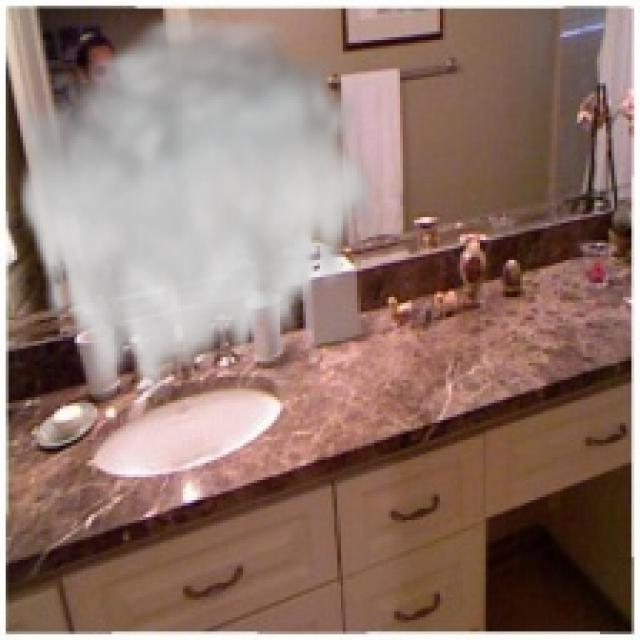smoke: (14, 3, 380, 417)
